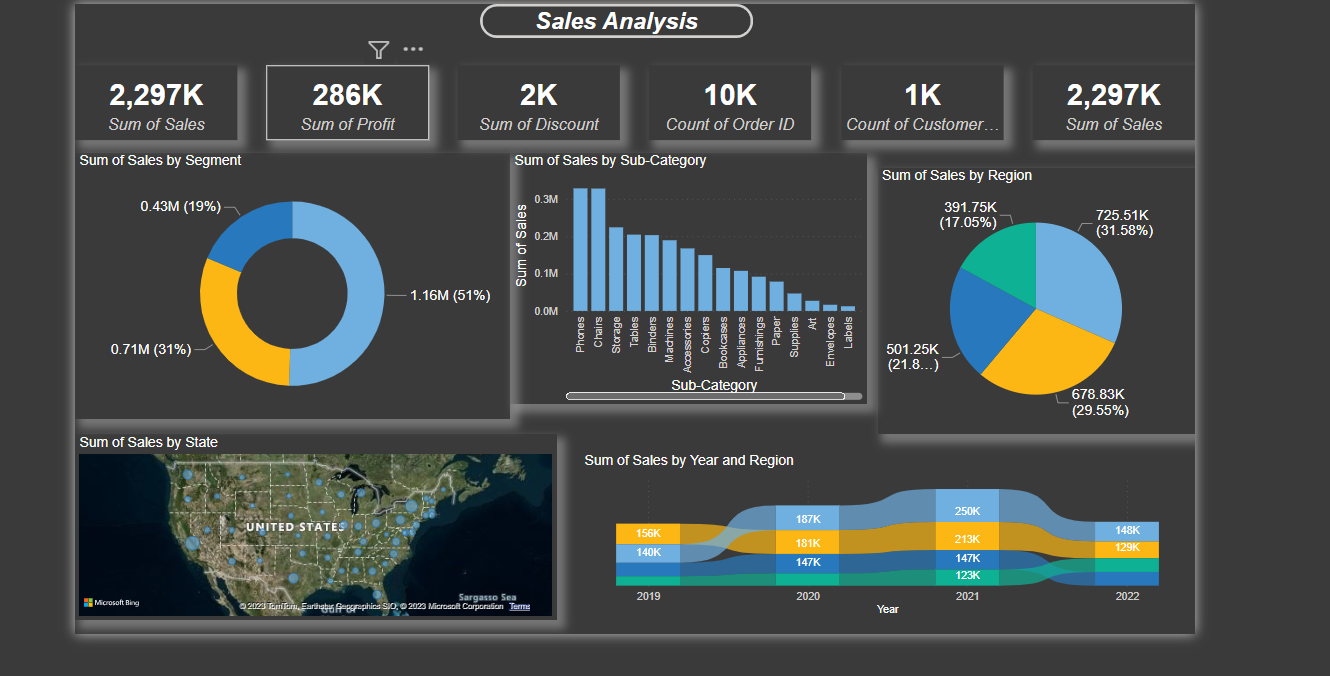

This screenshot's page, from the dashboard's own definition file:
{"tool":"powerbi","page":{"name":"Page 1","canvas":[1280,720],"ordinal":0},"visuals":[{"type":"columnChart","fields":{"Category":["Combined Data.Sub-Category"],"Y":["Sum(Combined Data.Sales)"]},"box":[497,170.4,407.9,287.6],"z":0},{"type":"pieChart","fields":{"Category":["Combined Data.Region"],"Y":["Sum(Combined Data.Sales)"]},"box":[917.4,187.5,362.6,304.8],"z":1000},{"type":"ribbonChart","fields":{"Series":["Combined Data.Region"],"Y":["Sum(Combined Data.Sales)"],"Category":["Combined Data.Order Date.Variation.Date Hierarchy.Year"]},"box":[576.7,512.6,703.3,190.7],"z":3000},{"type":"actionButton","box":[462.7,0,312.3,38.8],"z":4000},{"type":"donutChart","fields":{"Y":["Sum(Combined Data.Sales)"],"Category":["Combined Data.Segment"]},"box":[0,170.4,497,304.8],"z":5000},{"type":"map","fields":{"Category":["Combined Data.State"],"Size":["Sum(Combined Data.Sales)"]},"box":[0,490.7,550.1,212.6],"z":6000},{"type":"card","fields":{"Values":["Sum(Combined Data.Sales)"]},"box":[0,70.3,186,86],"z":7000},{"type":"card","fields":{"Values":["Sum(Combined Data.Profit)"]},"box":[218.8,70.3,186,86],"z":8000},{"type":"card","fields":{"Values":["Sum(Combined Data.Discount)"]},"box":[437.6,70.3,186,86],"z":9000},{"type":"card","fields":{"Values":["CountNonNull(Combined Data.Order ID)"]},"box":[656.4,70.3,186,86],"z":10000},{"type":"card","fields":{"Values":["Count(Combined Data.Customer ID)"]},"box":[875.2,70.3,186,86],"z":11000},{"type":"card","fields":{"Values":["Sum(Combined Data.Sales)"]},"box":[1094,70.3,186,86],"z":12000}]}

Visuals, with their boxes on the page's 1280x720 design canvas (x1, y1, x2, y2). These are canvas units, not pixel positions in the 1330x676 screenshot, which may show the page scaled, cropped or inside an application window:
columnChart - Combined Data.Sub-Category x Sum(Combined Data.Sales): locate(497, 170, 905, 458)
pieChart - Combined Data.Region x Sum(Combined Data.Sales): locate(917, 188, 1280, 492)
ribbonChart - Combined Data.Region x Sum(Combined Data.Sales): locate(577, 513, 1280, 703)
actionButton: locate(463, 0, 775, 39)
donutChart - Sum(Combined Data.Sales) x Combined Data.Segment: locate(0, 170, 497, 475)
map - Combined Data.State x Sum(Combined Data.Sales): locate(0, 491, 550, 703)
card - Sum(Combined Data.Sales): locate(0, 70, 186, 156)
card - Sum(Combined Data.Profit): locate(219, 70, 405, 156)
card - Sum(Combined Data.Discount): locate(438, 70, 624, 156)
card - CountNonNull(Combined Data.Order ID): locate(656, 70, 842, 156)
card - Count(Combined Data.Customer ID): locate(875, 70, 1061, 156)
card - Sum(Combined Data.Sales): locate(1094, 70, 1280, 156)
